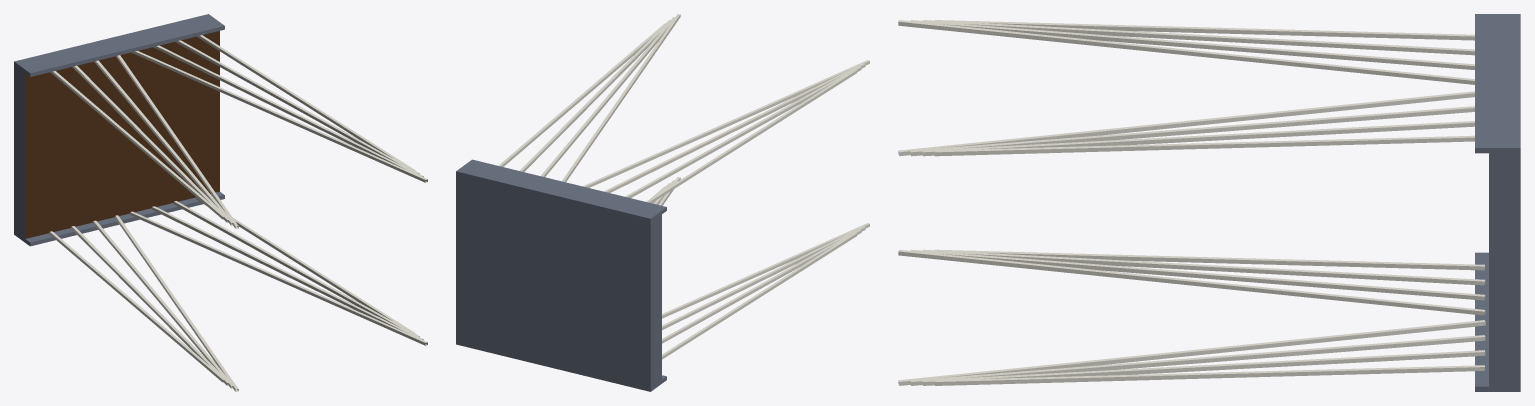
The model's file is middle_odd.glb.
3 renders of one model, left to right at view 1: azimuth 30°, elevation 25°; view 2: azimuth 150°, elevation 25°; view 3: azimuth 270°, elevation 25°, orthographic. The views are drawn at different scales.
Visible parts, largest first — view 1: bridge_03_middle_odd; view 2: bridge_03_middle_odd; view 3: bridge_03_middle_odd.
Boxes of the visible parts, left/top/right/bottom form: bridge_03_middle_odd: left=14, top=14, right=427, bottom=391; bridge_03_middle_odd: left=456, top=14, right=869, bottom=391; bridge_03_middle_odd: left=898, top=14, right=1520, bottom=391.
Size of the model in its own units: 16 by 13.6 by 31.43.
